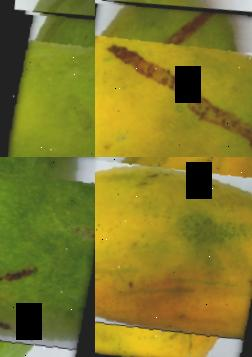PartiallyRipe: (95, 0, 252, 157)
Ripe: (95, 157, 252, 357)
Unripe: (0, 157, 95, 357), (0, 3, 95, 157)
